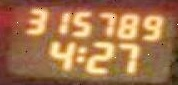1: (57, 10, 68, 34)
2: (83, 39, 113, 74)
3: (23, 7, 48, 34)
4: (48, 39, 75, 69)
5: (70, 11, 91, 37)
7: (115, 41, 138, 74), (95, 10, 115, 35)
8: (115, 12, 138, 38)
9: (140, 13, 163, 40)
X: (73, 44, 85, 63)
